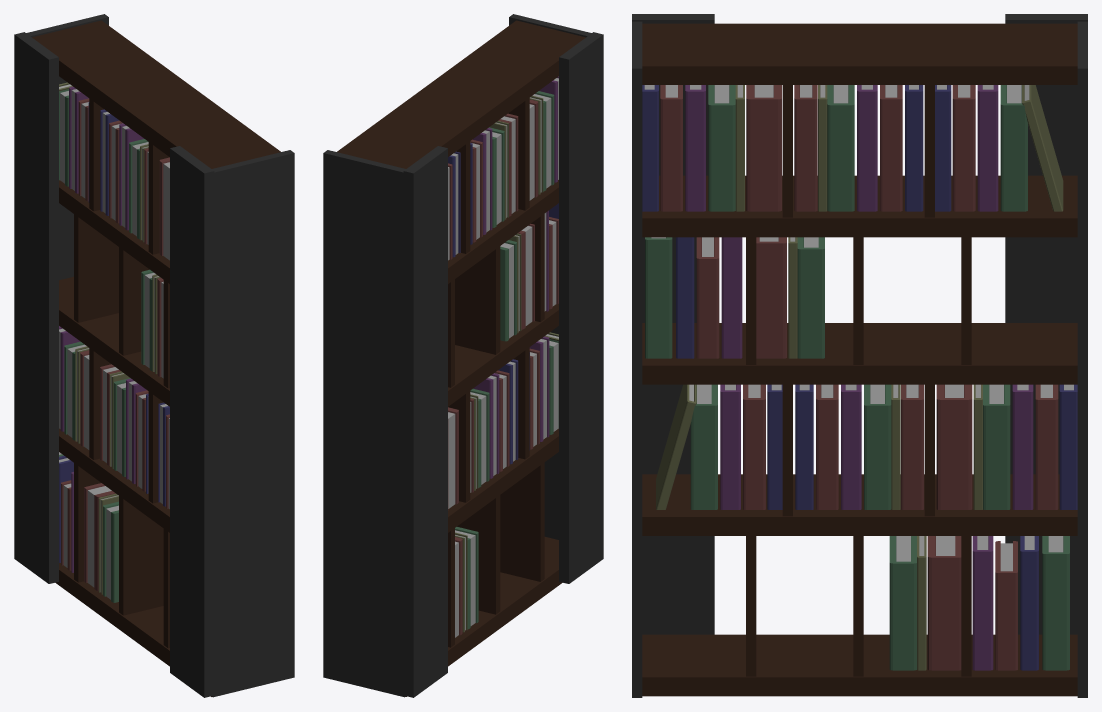
The model's file is BoekenkastSlim.fbx.
The picture shows the model from 3 angles, left to right: view 1: azimuth 30°, elevation 25°; view 2: azimuth 150°, elevation 25°; view 3: azimuth 270°, elevation 25°; orthographic projection. The views are drawn at different scales.
Visible parts, largest first — view 1: Cube.012, Cube.013, Cube.014, Cube.010, Cube.016, Cube.020, Cube.009, Cube.006, Cube.007, Cube.008, Cube.019, Cube.066 (+35 smaller); view 2: Cube.011, Cube.014, Cube.013, Cube.010, Cube.017, Cube.019, Cube.006, Cube.009, Cube.016, Cube.008, Cube.007, Cube.012 (+35 smaller); view 3: Cube.010, Cube.006, Cube.009, Cube.008, Cube.007, Cube.014, Cube.013, Cube.011, Cube.012, Cube.066, Cube.052, Cube.031 (+55 smaller).
Part boxes in pixels (x1,y1,x2,y2): Cube.012: [212, 150, 294, 697]; Cube.013: [14, 32, 58, 583]; Cube.014: [170, 146, 214, 697]; Cube.010: [32, 20, 280, 168]; Cube.016: [119, 496, 163, 615]; Cube.020: [74, 214, 118, 322]; Cube.009: [59, 276, 169, 406]; Cube.006: [55, 563, 212, 696]; Cube.007: [59, 428, 169, 532]; Cube.008: [59, 180, 169, 283]; Cube.019: [119, 247, 149, 355]; Cube.066: [84, 483, 115, 591]; Cube.011: [323, 150, 405, 697]; Cube.014: [559, 32, 603, 583]; Cube.013: [403, 146, 447, 697]; Cube.010: [337, 20, 585, 168]; Cube.017: [500, 462, 544, 581]; Cube.019: [455, 246, 500, 354]; Cube.006: [405, 537, 562, 696]; Cube.009: [448, 303, 558, 406]; Cube.016: [457, 495, 500, 614]; Cube.008: [448, 180, 558, 283]; Cube.007: [448, 428, 558, 532]; Cube.012: [509, 14, 591, 539]; Cube.010: [642, 23, 1077, 84]; Cube.006: [642, 634, 1077, 696]; Cube.009: [642, 323, 1077, 384]; Cube.008: [642, 175, 1077, 237]; Cube.007: [642, 474, 1077, 535]; Cube.014: [632, 14, 714, 634]; Cube.013: [1005, 14, 1087, 634]; Cube.011: [1077, 21, 1087, 697]; Cube.012: [632, 21, 642, 697]; Cube.066: [927, 536, 961, 670]; Cube.052: [936, 384, 972, 509]; Cube.031: [746, 85, 781, 211].
Size of the model in its own units: 266 by 1487 by 969.
